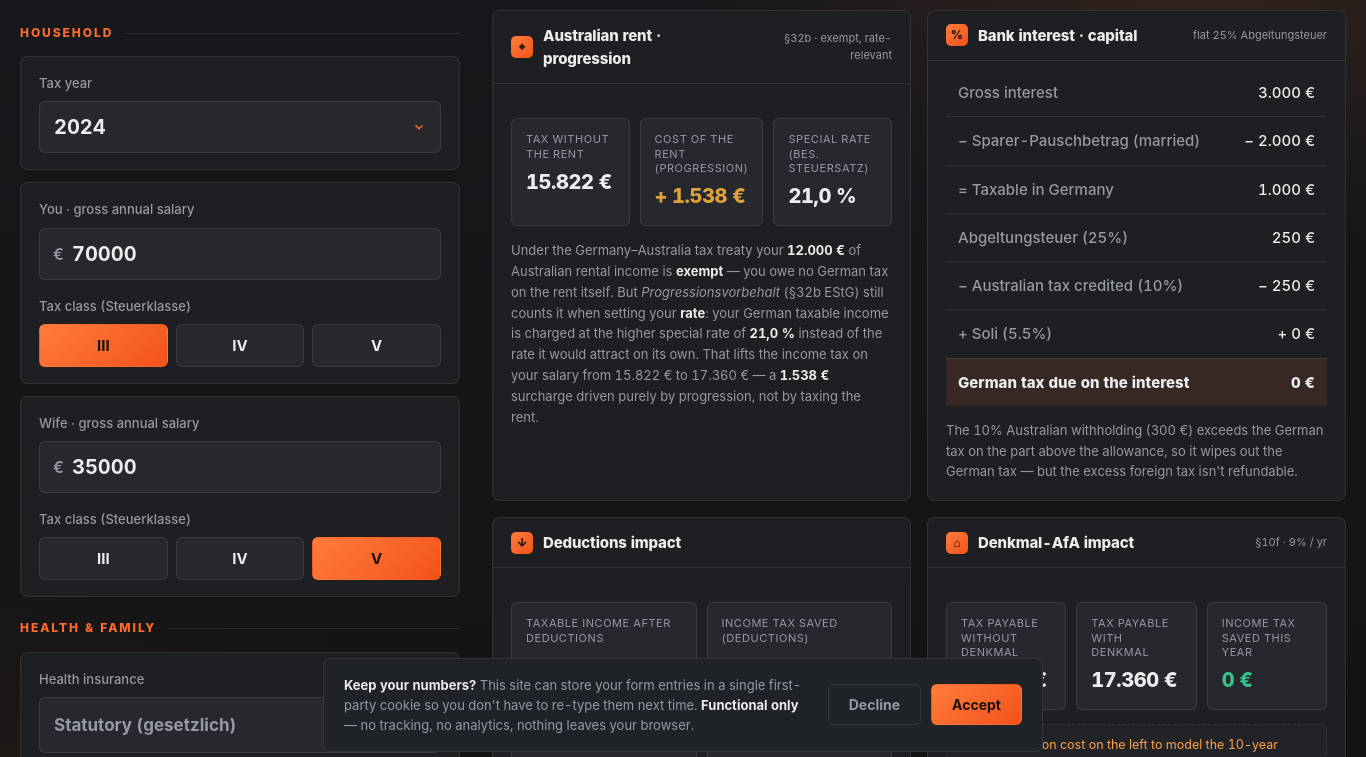
App.svelte › shows the invalid-combo warning for III + III
(page scrolled)
// click the wife's III (second tax-class group) → III + III is invalid
Click the button "III" below "Wife · gross annual salary": (103, 559) x1=39 y1=537 x2=168 y2=580
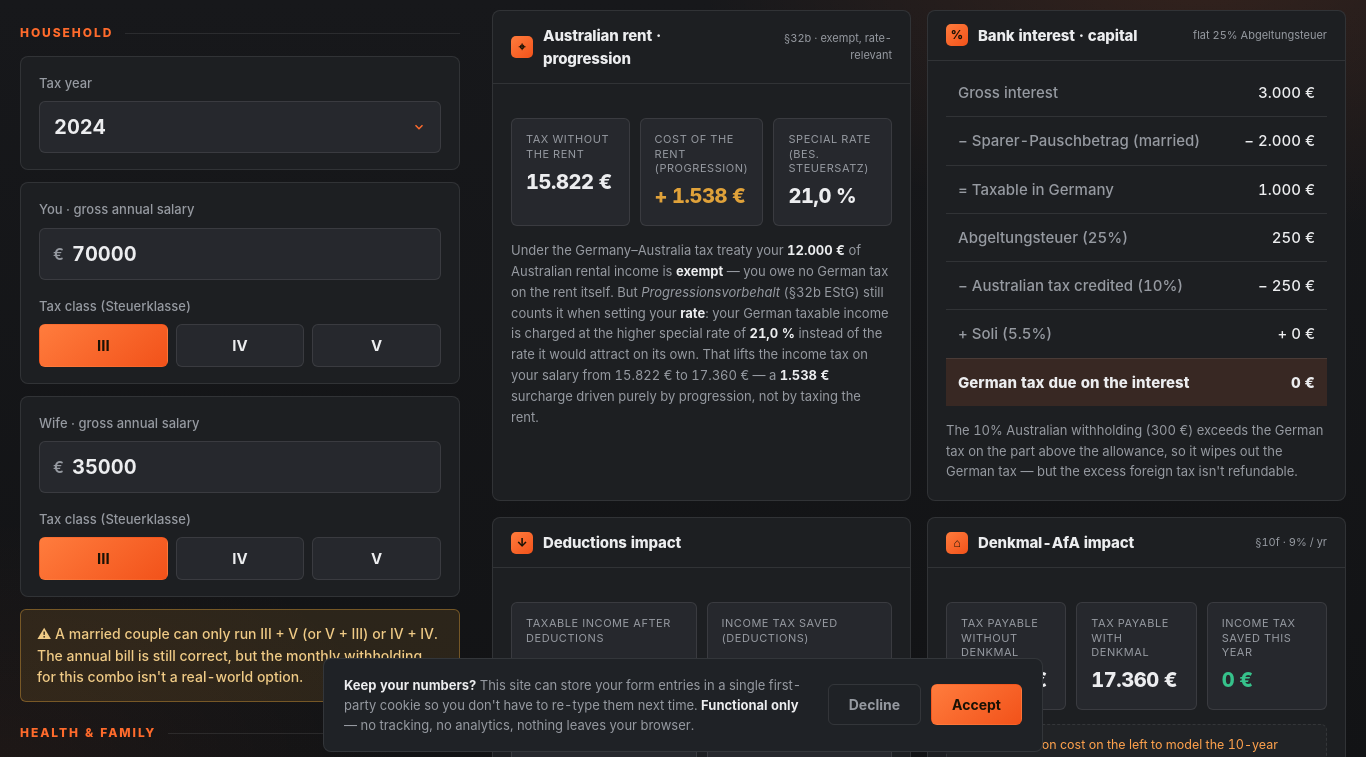
Result: the text "A married couple can only run" is shown at x1=37 y1=625 x2=438 y2=686
